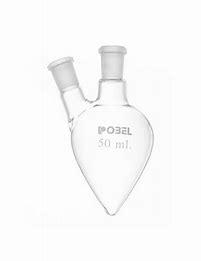Pear shaped flask: (44, 36, 155, 219)
